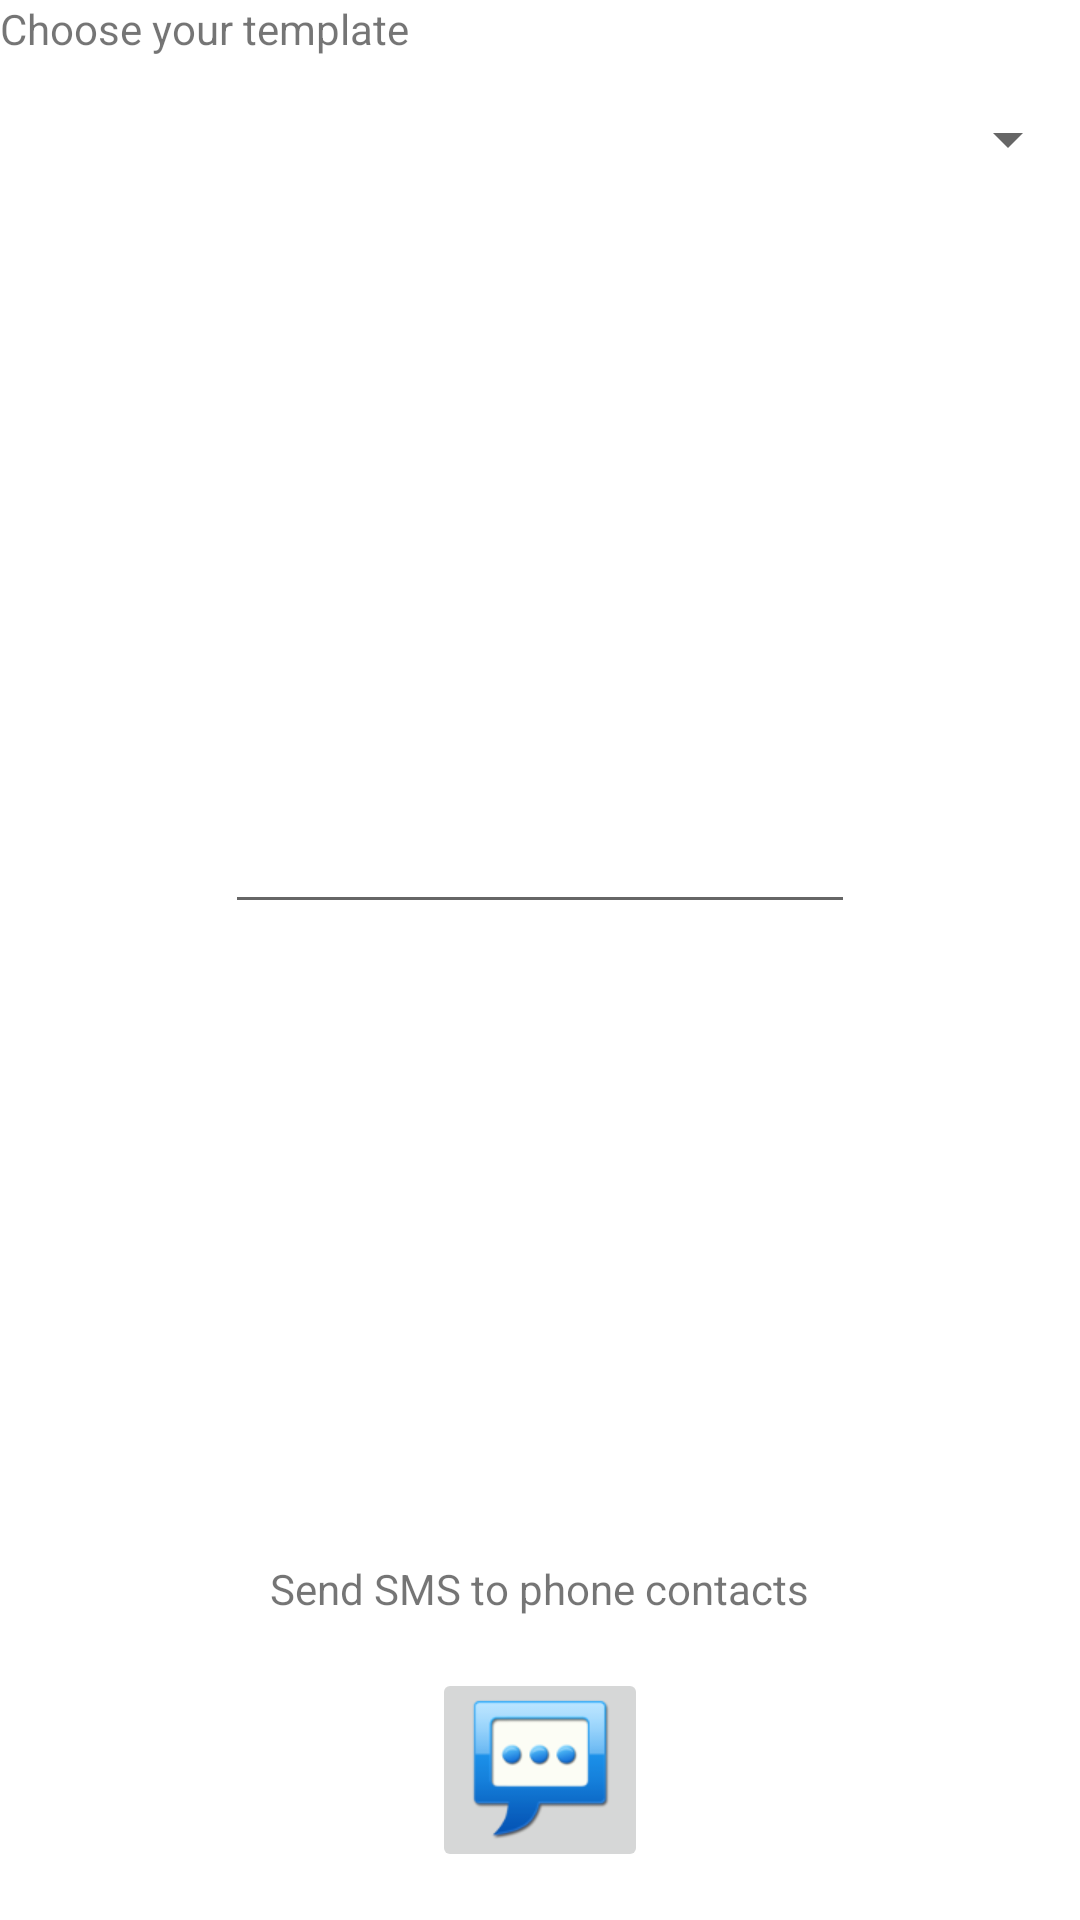

Point at icon controls on the screen. Image size 1080px x 1920px, points as (x,y).
Send finished SMS: (540,1770)
